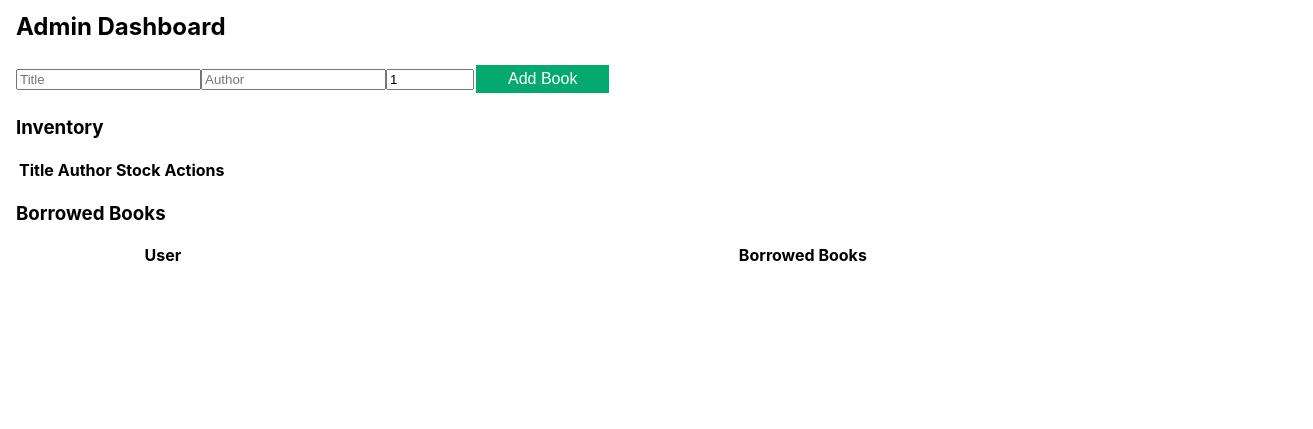
Test: AdminPanel › shows error if add book form is invalid
Replace the text in the number field showing "1" with "0": (430, 79) [386,69,474,90]
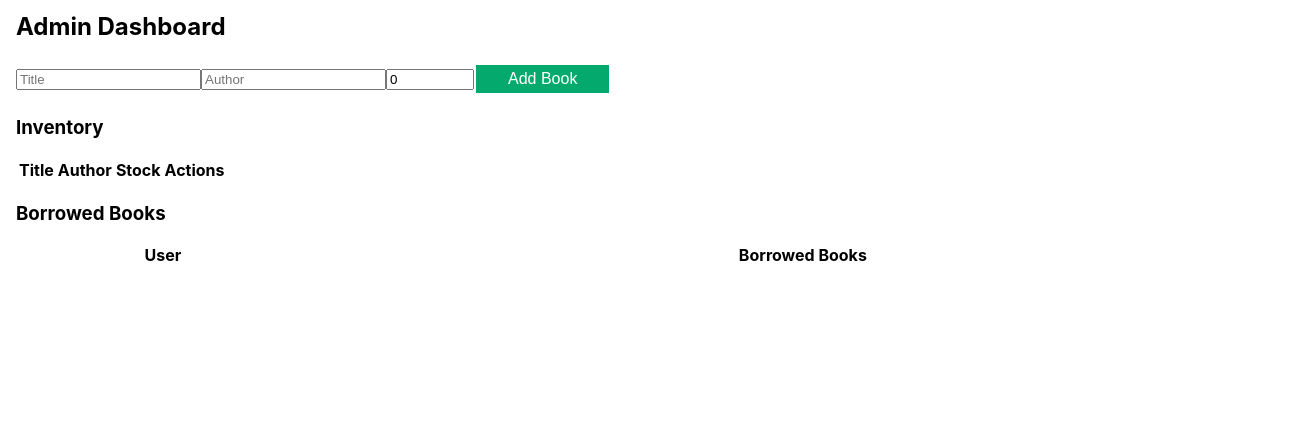
Click the button "Add Book": (543, 79) [476,65,609,93]
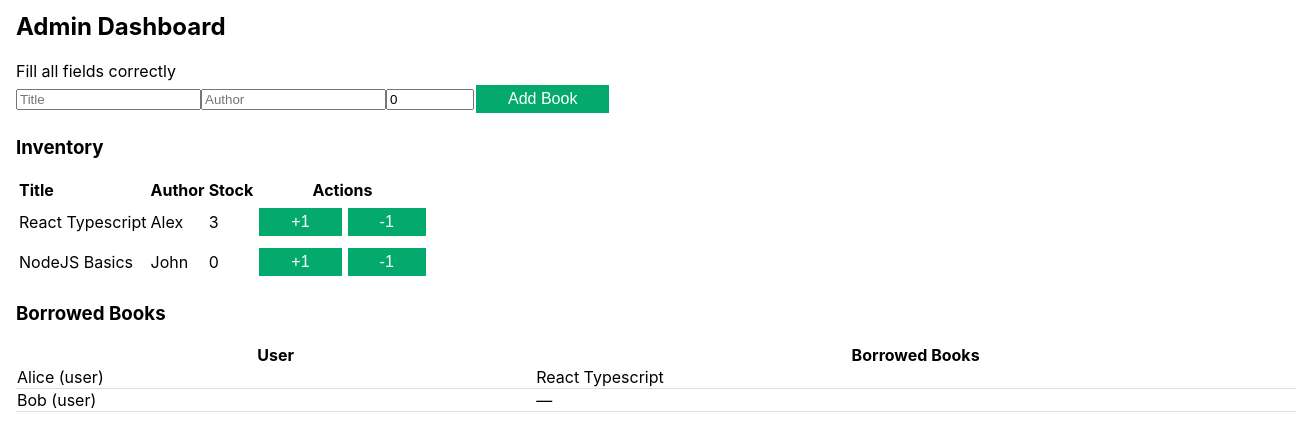
Now the text "Fill all fields correctly" is shown, box [16,61,176,81]
